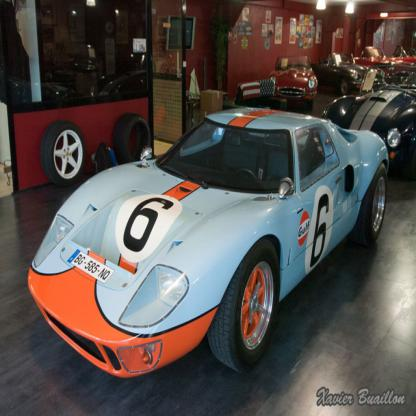Car: (27, 106, 389, 378), (323, 64, 415, 178), (317, 54, 385, 93), (270, 56, 318, 108)
